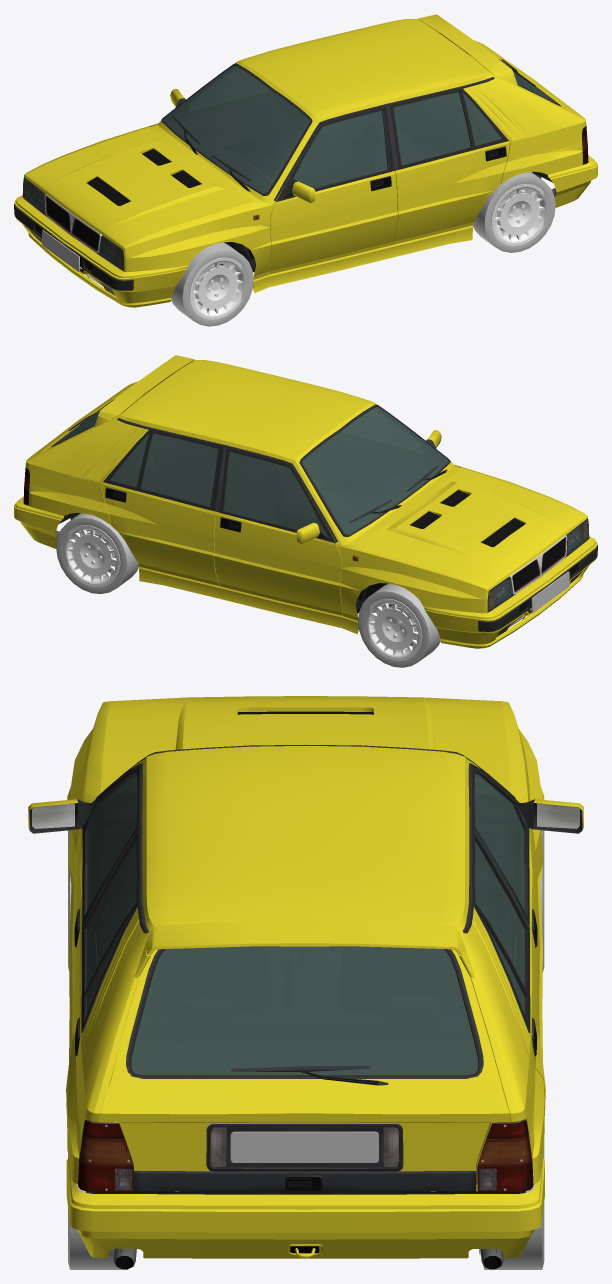
Rendered from delthf_.fbx.
3 renders of one model, top to bottom at view 1: azimuth 30°, elevation 25°; view 2: azimuth 150°, elevation 25°; view 3: azimuth 270°, elevation 25°, orthographic. The views are drawn at different scales.
Parts seen in each view (by area): view 1: body, door_front_left, hood, door_rear_left, fender_left, bumper_front, wheel_front_left, wheel_rear_left, trunk_door, bumper_rear, headlight_left, sidemirror_left (+1 smaller); view 2: body, door_front_right, hood, door_rear_right, fender_right, bumper_front, wheel_front_right, wheel_rear_right, trunk_door, bumper_rear, headlight_right, headlight_left (+1 smaller); view 3: trunk_door, body, bumper_rear, hood, door_rear_right, door_rear_left, door_front_right, door_front_left, backlight_right, backlight_left, fender_left, fender_right (+4 smaller).
Boxes of the visible parts, bbox=[...] form: body: bbox=[22, 19, 586, 292]; door_front_left: bbox=[269, 107, 398, 274]; hood: bbox=[25, 127, 252, 248]; door_rear_left: bbox=[390, 89, 509, 244]; fender_left: bbox=[122, 202, 274, 279]; bumper_front: bbox=[14, 195, 188, 307]; wheel_front_left: bbox=[171, 242, 253, 326]; wheel_rear_left: bbox=[472, 172, 555, 252]; trunk_door: bbox=[417, 14, 584, 118]; bumper_rear: bbox=[548, 155, 597, 207]; headlight_left: bbox=[99, 235, 124, 269]; sidemirror_left: bbox=[282, 178, 315, 203]; body: bbox=[25, 360, 589, 634]; door_front_right: bbox=[213, 448, 342, 615]; hood: bbox=[359, 468, 586, 589]; door_rear_right: bbox=[101, 430, 221, 585]; fender_right: bbox=[337, 543, 489, 620]; bumper_front: bbox=[423, 536, 597, 648]; wheel_front_right: bbox=[358, 583, 440, 667]; wheel_rear_right: bbox=[56, 513, 138, 593]; trunk_door: bbox=[27, 355, 194, 459]; bumper_rear: bbox=[14, 496, 63, 548]; headlight_right: bbox=[487, 576, 512, 610]; headlight_left: bbox=[566, 519, 588, 553]; trunk_door: bbox=[99, 920, 510, 1191]; body: bbox=[66, 744, 545, 1269]; bumper_rear: bbox=[66, 1157, 544, 1258]; hood: bbox=[100, 696, 511, 793]; door_rear_right: bbox=[474, 833, 545, 1099]; door_rear_left: bbox=[66, 833, 137, 1099]; door_front_right: bbox=[473, 767, 542, 1008]; door_front_left: bbox=[69, 767, 138, 1008]; backlight_right: bbox=[477, 1120, 533, 1192]; backlight_left: bbox=[78, 1120, 133, 1192]; fender_left: bbox=[68, 701, 110, 885]; fender_right: bbox=[501, 701, 543, 885].
Size of the model in its own units: 154 by 52.06 by 76.68.
